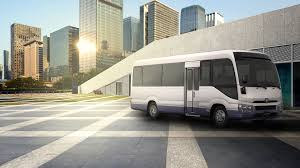bus: (128, 47, 284, 127)
